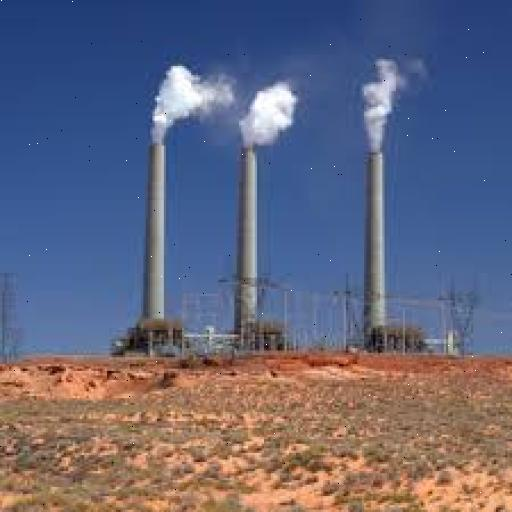smoke: (146, 59, 407, 148)
